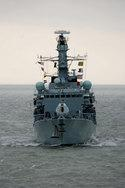warship: (32, 30, 99, 148)
